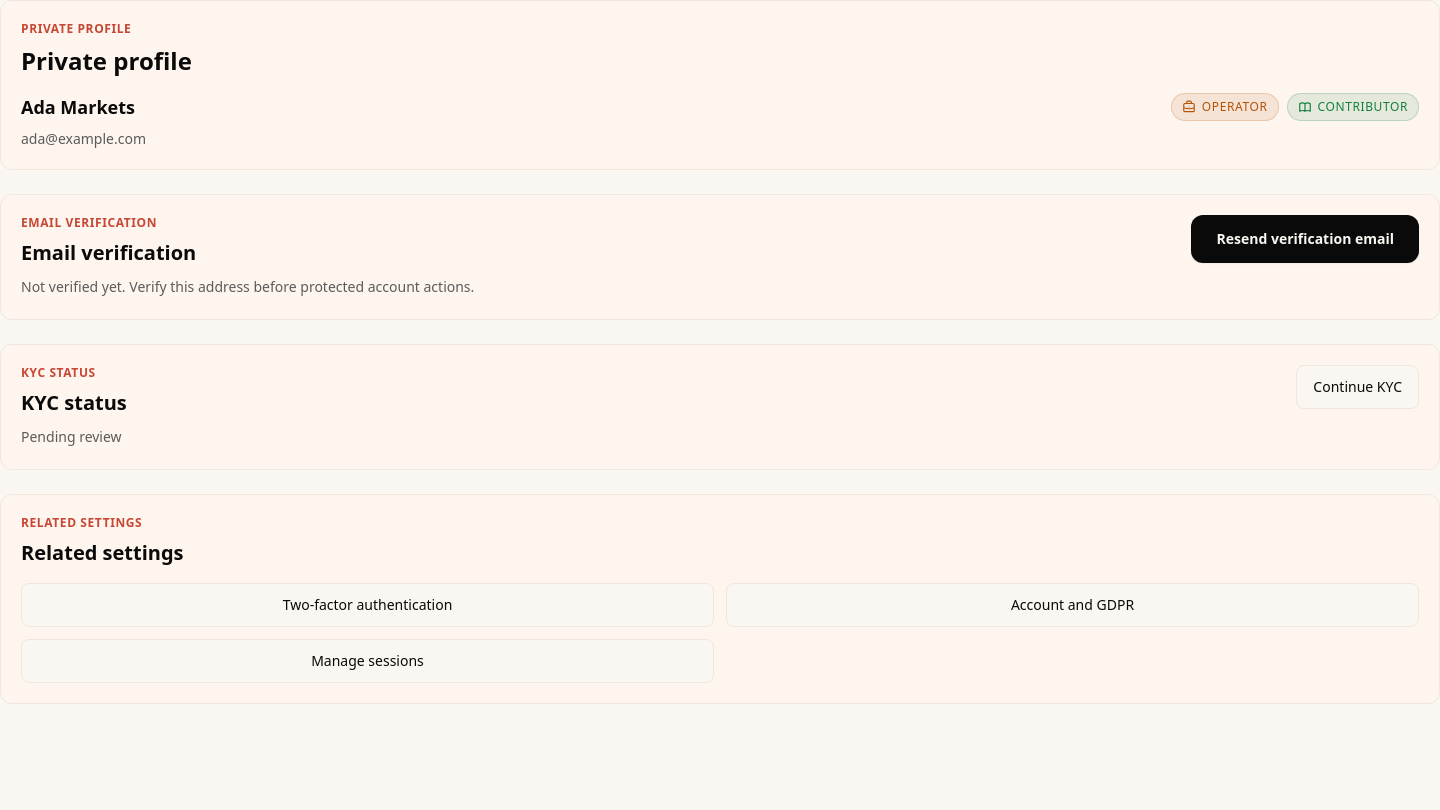
Scenario: ProfileSettingsPanel › renders identity, status summaries, and resends verification for unverified email
The image size is (1440, 810).
Expected: the heading "Private profile" is shown, [21,44,192,77]
Expected: the text "Ada Markets" is shown, [21,95,135,119]
Click the button "Resend verification email" at [1305, 239], box [1192,215,1419,263]
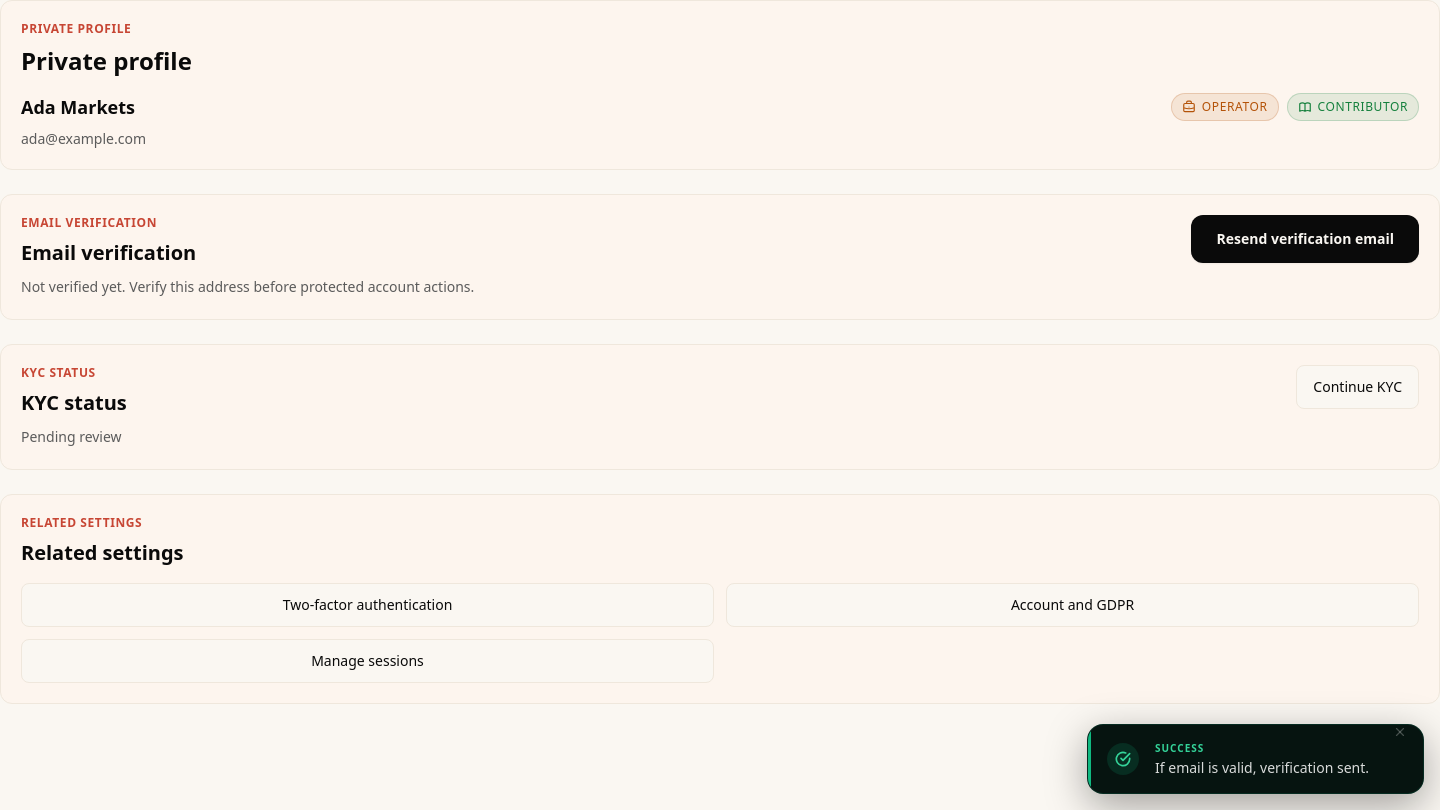
Expected: the text "Pending review" is shown, [21,425,127,449]
Expected: the text "If email is valid, verification sent." is shown, [1155,758,1369,777]
